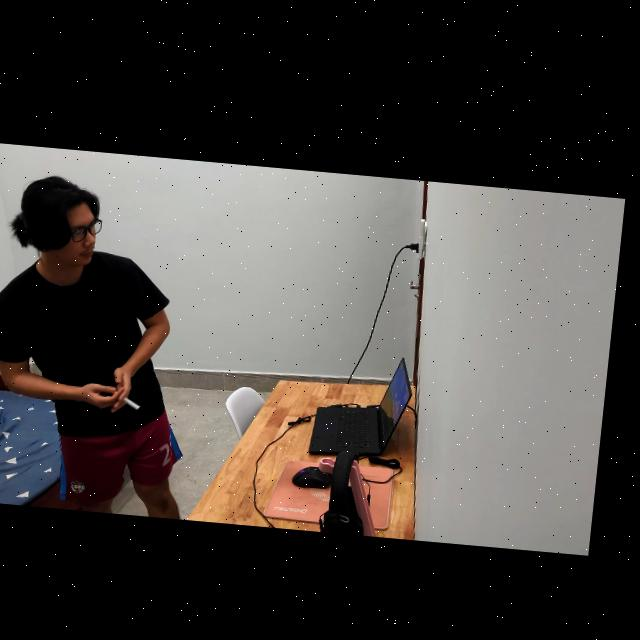cigarette: (129, 392, 149, 406)
